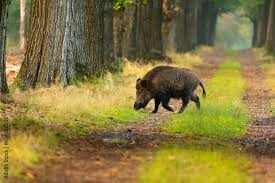boar: (132, 65, 206, 114)
